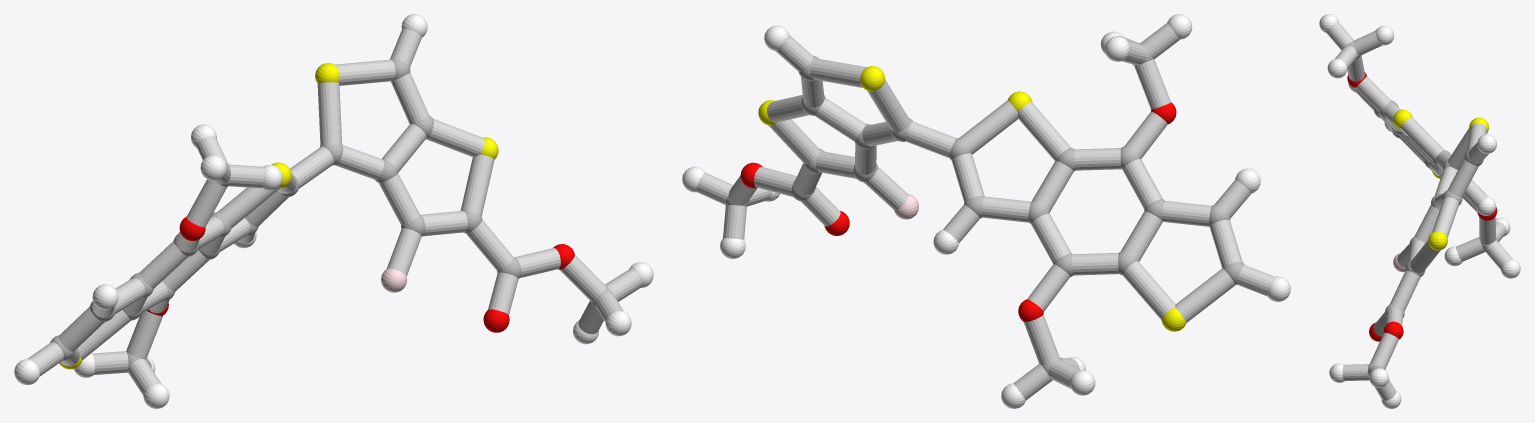
Rendered from color.glb.
3 renders of one model, left to right at view 1: azimuth 30°, elevation 25°; view 2: azimuth 150°, elevation 25°; view 3: azimuth 270°, elevation 25°, orthographic. The views are drawn at different scales.
Visible parts, largest first — view 1: grp15205, grp8689, grp1, grp13395, grp7241; view 2: grp15205, grp8689, grp1, grp7241, grp13395; view 3: grp15205, grp8689, grp1, grp7241, grp13395.
Boxes of the visible parts, <box> form: grp15205: <box>27,28,641,395</box>; grp8689: <box>14,14,653,408</box>; grp1: <box>50,58,613,373</box>; grp13395: <box>147,216,574,332</box>; grp7241: <box>59,63,498,369</box>; grp15205: <box>696,22,1274,400</box>; grp8689: <box>682,14,1290,408</box>; grp1: <box>725,43,1244,374</box>; grp7241: <box>758,66,1186,331</box>; grp13395: <box>740,102,1176,321</box>; grp15205: <box>1326,22,1512,400</box>; grp8689: <box>1319,14,1520,408</box>; grp1: <box>1346,41,1497,379</box>; grp7241: <box>1393,109,1488,250</box>; grp13395: <box>1347,72,1497,341</box>.
Bounding box in the file's own units: 16.53 × 8.17 × 6.08.
